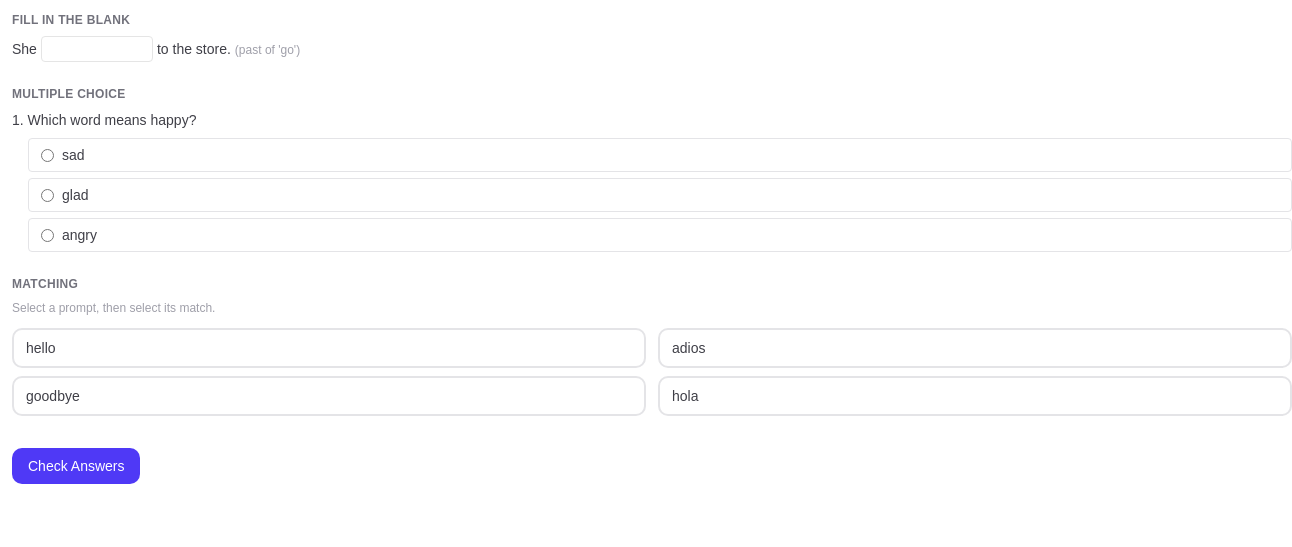
Test: ExercisesRenderer.Student › try again resets the form
Step 1. Type "went" into the field with test id "fib-input-0" → (97,49), box [41,36,153,62]
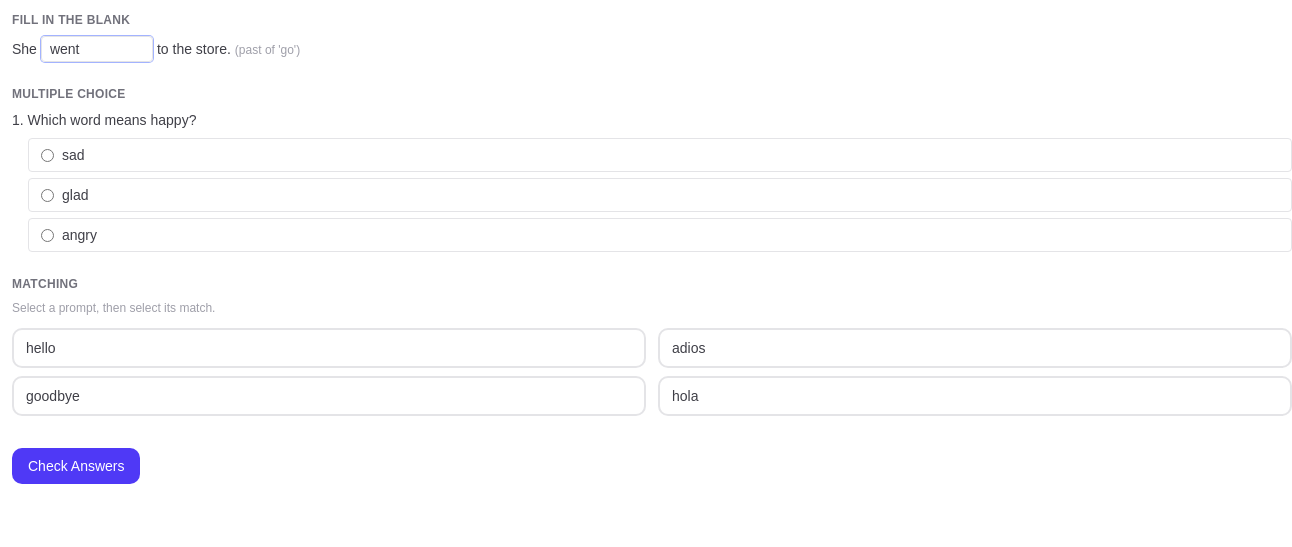
Step 2. Click the button with test id "check-answers-btn" → (76,466), box [12,448,140,484]
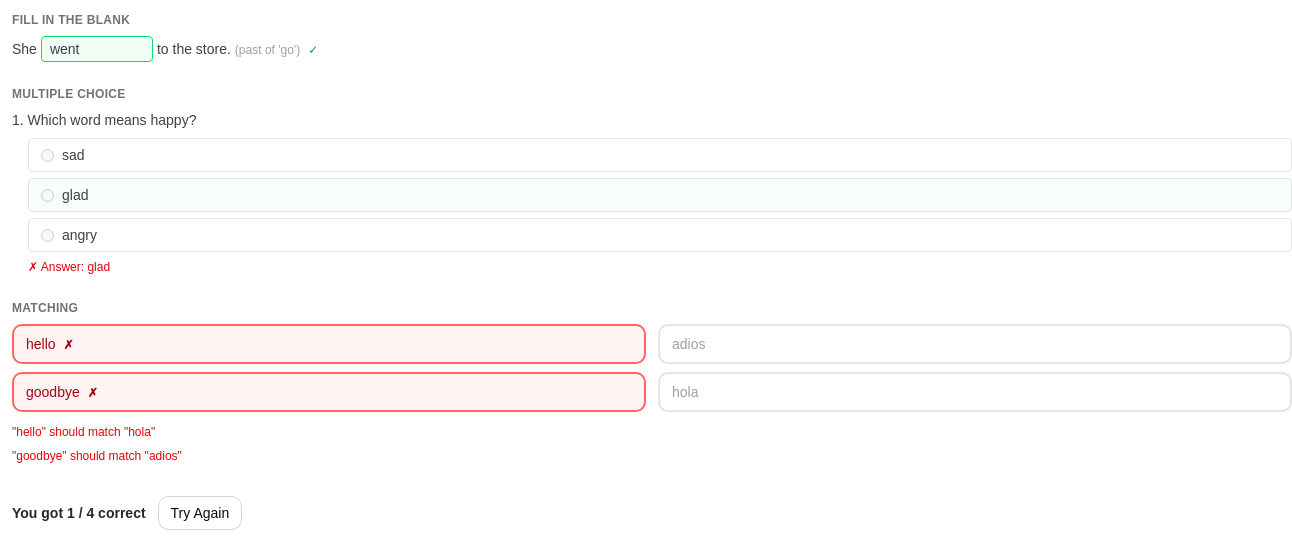
Step 3. Click the button with test id "try-again-btn" → (200,513), box [158,496,242,530]
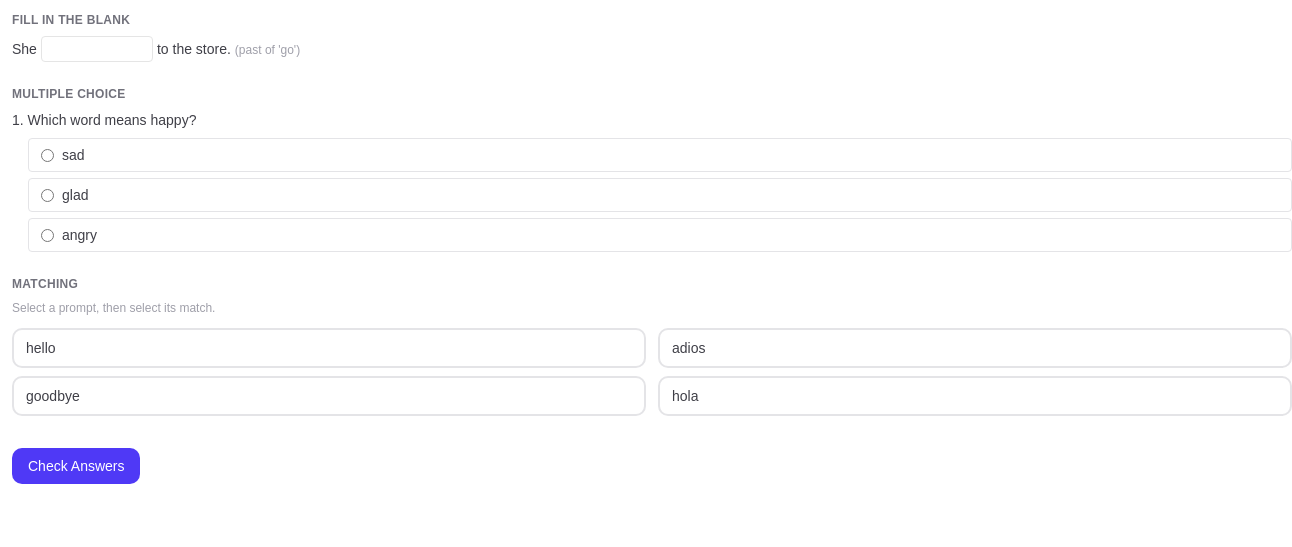
Expected: the field with test id "fib-input-0" is empty, [41,36,153,62]
Expected: the button with test id "check-answers-btn" is shown, [12,448,140,484]
